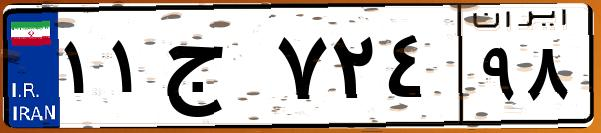1: (57, 26, 110, 100), (110, 28, 158, 98)
2: (330, 28, 385, 110)
4: (385, 28, 445, 110)
7: (270, 28, 330, 110)
8: (525, 38, 570, 115)
9: (475, 38, 525, 113)
ج: (158, 20, 270, 120)
